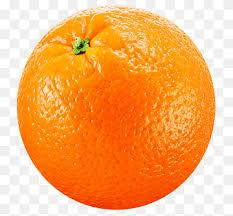non-mango: (16, 4, 216, 210)
